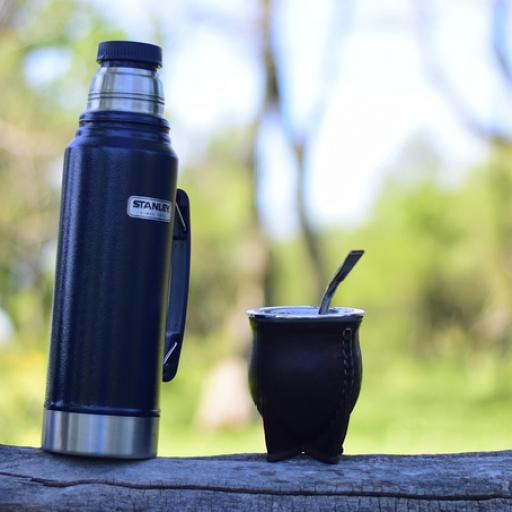mate: (245, 251, 366, 465)
termo: (42, 41, 190, 458)
